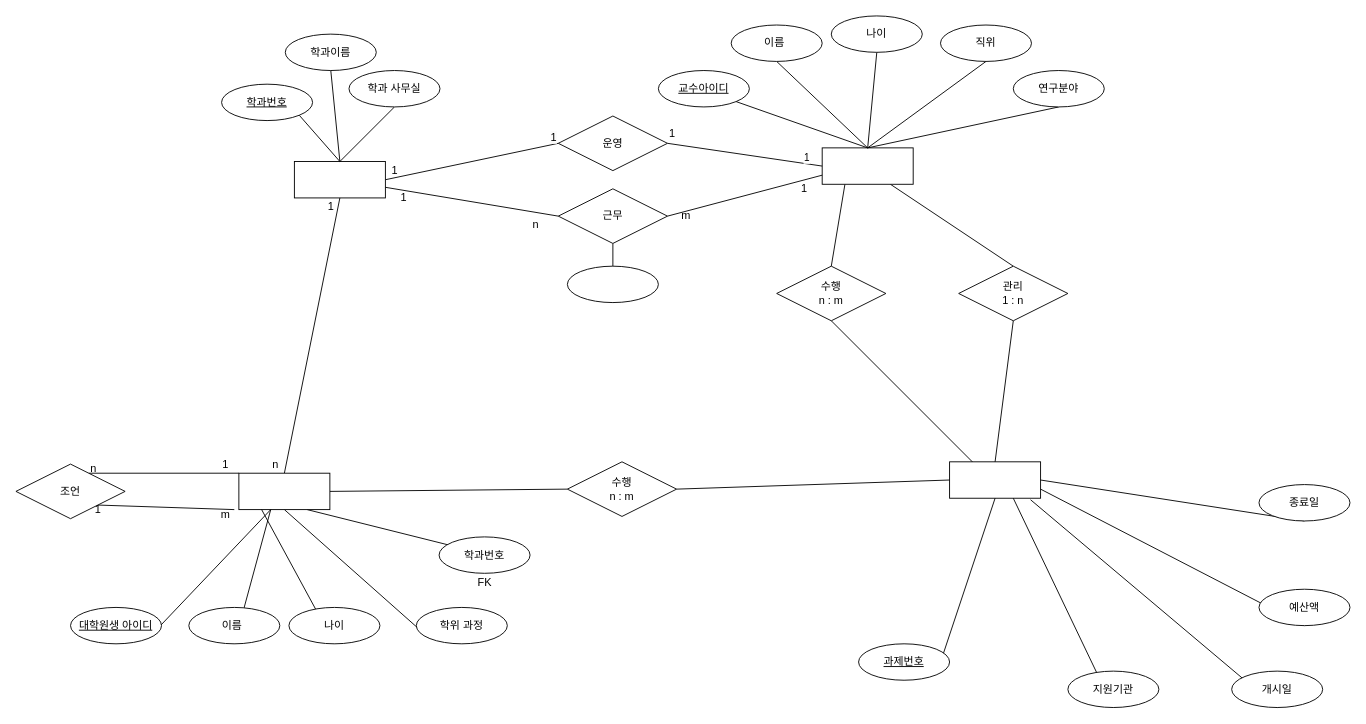
The diagram is 1366 pixels wide and 724 high, and some of its shapes have lost their labels. Each missing label, with the centre of its shape:
과제: point 995,479
교수: point 867,165
대학원생: point 284,491
참여 백분율: point 612,284
학과: point 339,179
